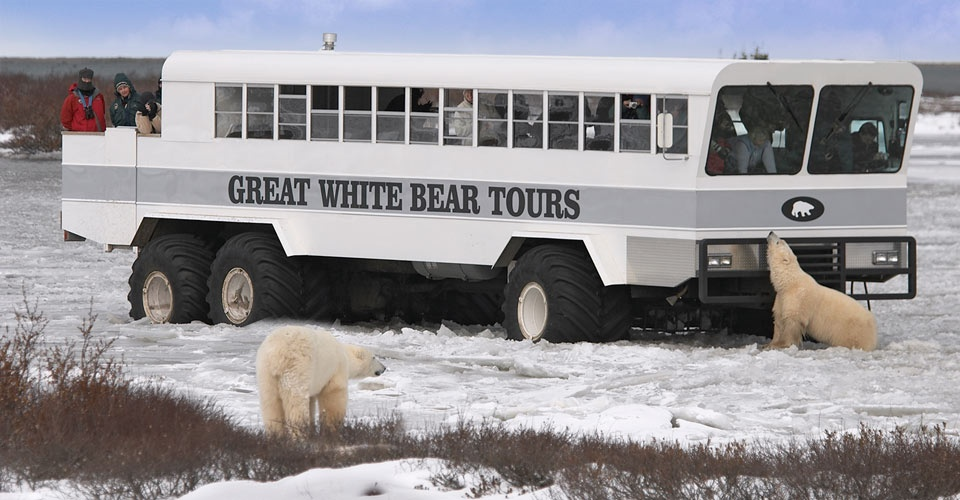Polar Bear: (243, 311, 409, 470), (754, 218, 893, 364)
